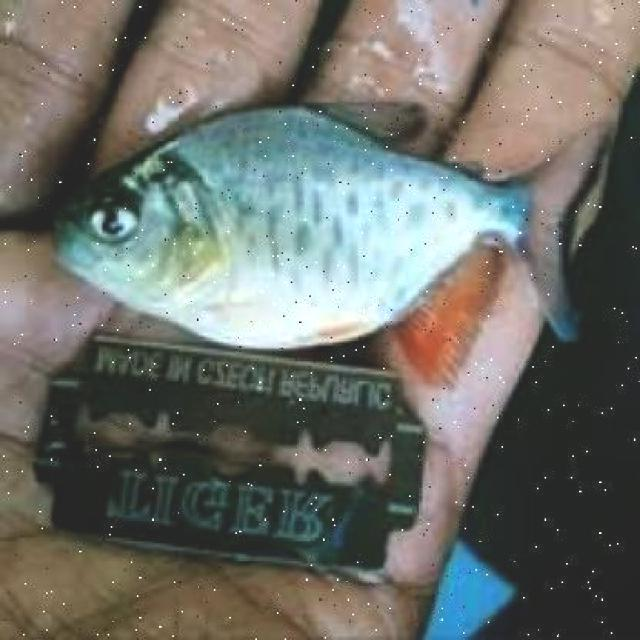ikan-pacu: (57, 96, 577, 344)
